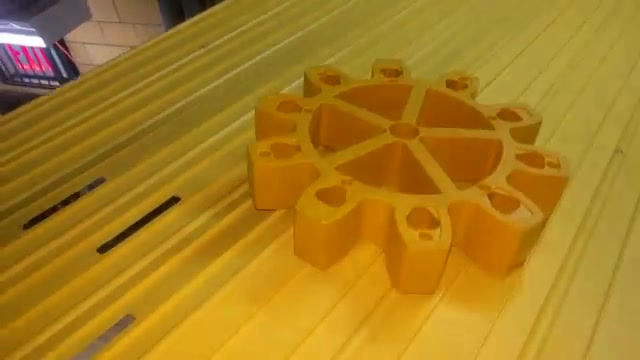gear: (240, 40, 584, 301)
